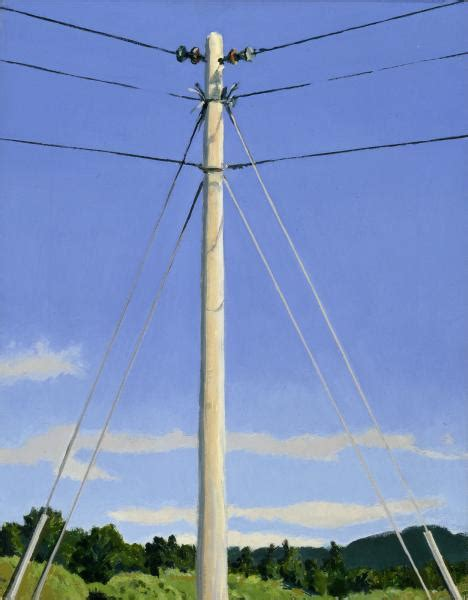pole: (125, 11, 315, 600)
